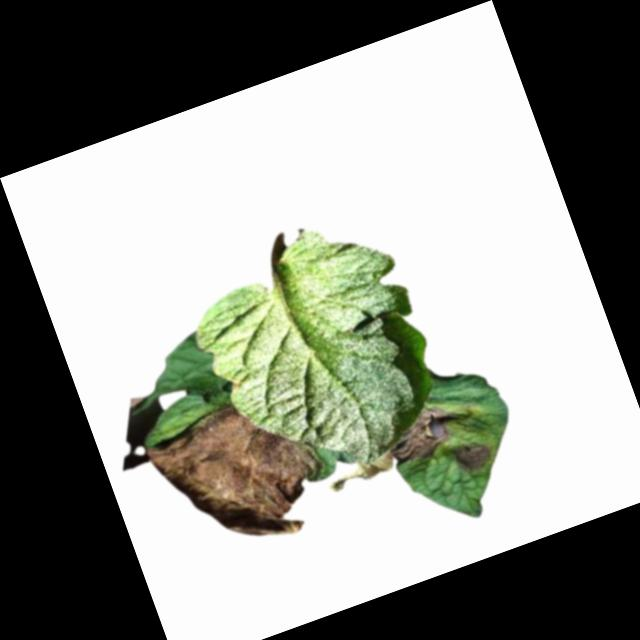Late_blight: (140, 382, 341, 573), (380, 398, 463, 468), (323, 453, 399, 501), (452, 436, 496, 478)
healthy: (173, 204, 458, 501)
